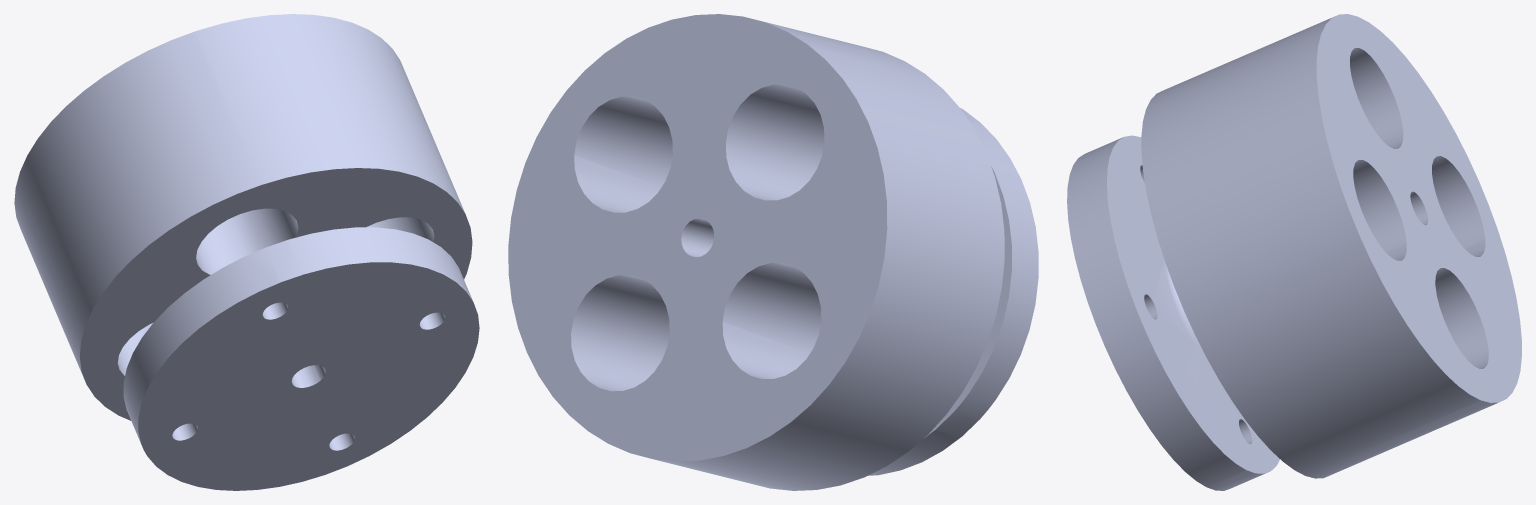
File: c_3_robot_export_clean__motor_wheel_adapter_1_2.dae
3 renders of one model, left to right at view 1: azimuth 30°, elevation 25°; view 2: azimuth 150°, elevation 25°; view 3: azimuth 270°, elevation 25°, orthographic. The views are drawn at different scales.
Visible parts, largest first — view 1: node0; view 2: node0; view 3: node0.
Part boxes in pixels (x1,y1,x2,y2): node0: [14, 14, 479, 490]; node0: [508, 14, 1038, 490]; node0: [1067, 14, 1521, 490].
Size of the model in its own units: 0.0484 by 0.0535 by 0.0498.
